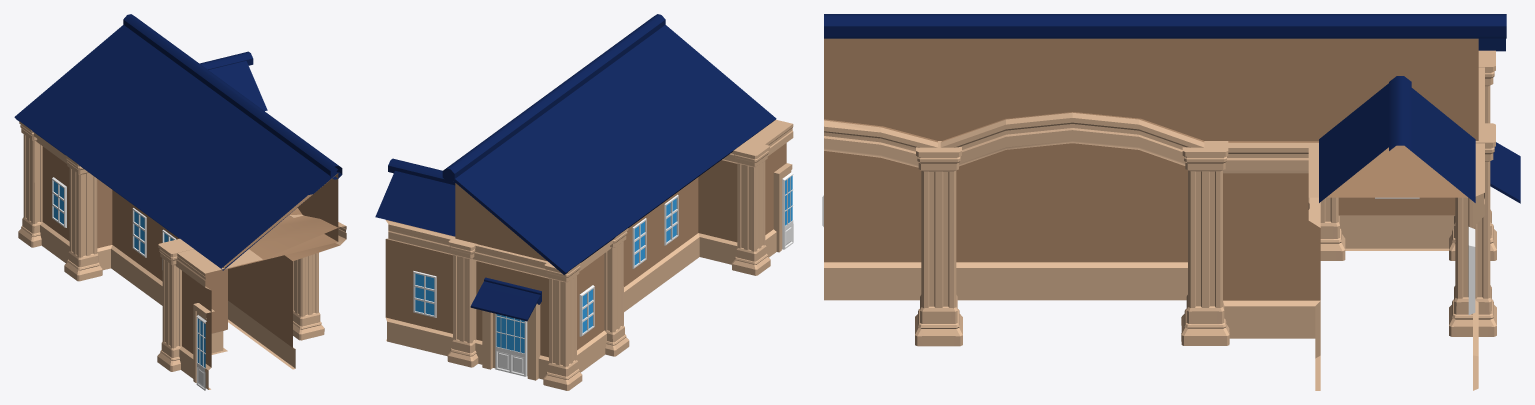
The picture shows the model from 3 angles, left to right: view 1: azimuth 30°, elevation 25°; view 2: azimuth 150°, elevation 25°; view 3: azimuth 270°, elevation 25°; orthographic projection. The views are drawn at different scales.
Parts seen in each view (by area): view 1: Object008; view 2: Object008; view 3: Object008.
Part boxes in pixels (x1,y1,x2,y2): Object008: (14, 14, 346, 390); Object008: (375, 14, 793, 390); Object008: (822, 14, 1520, 390).
Bounding box in the file's own units: 8.61 × 7.02 × 13.98.
